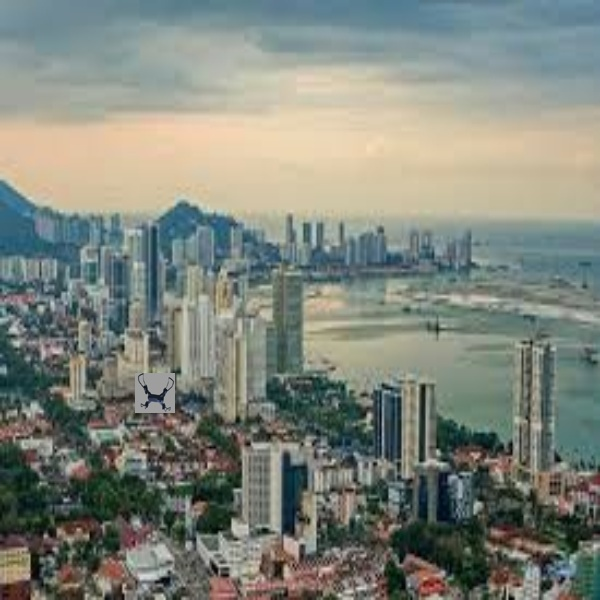drone: (135, 372, 175, 413)
